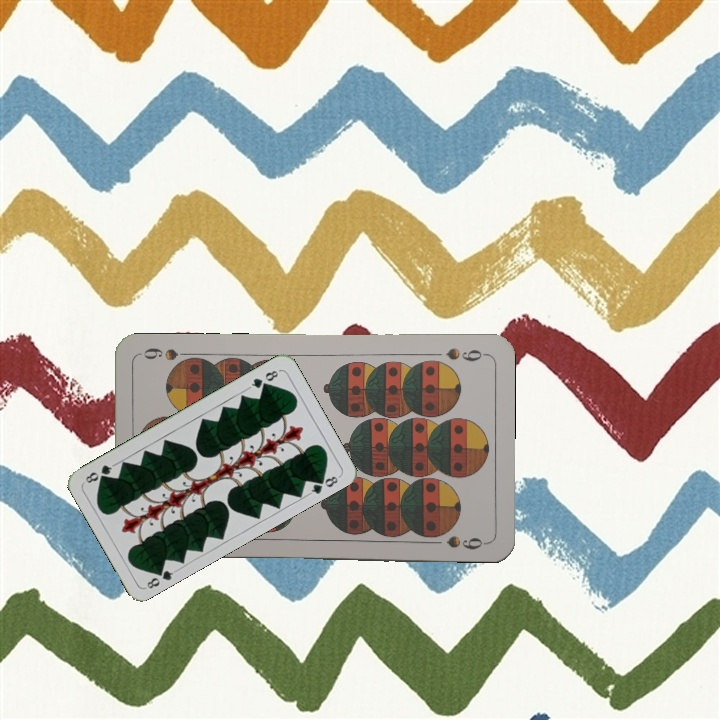G8: (142, 563, 179, 592), (245, 366, 282, 391)
S9: (442, 344, 489, 364)
